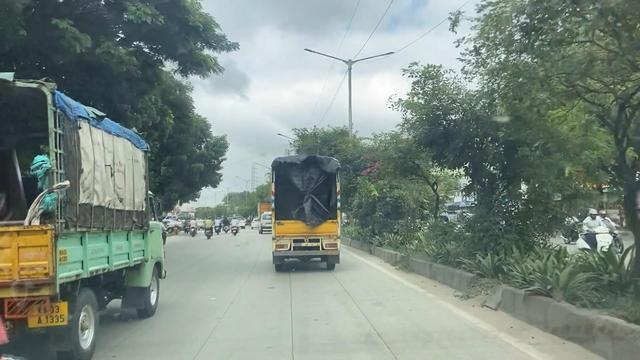HMV: (0, 64, 180, 357), (258, 127, 358, 297)
